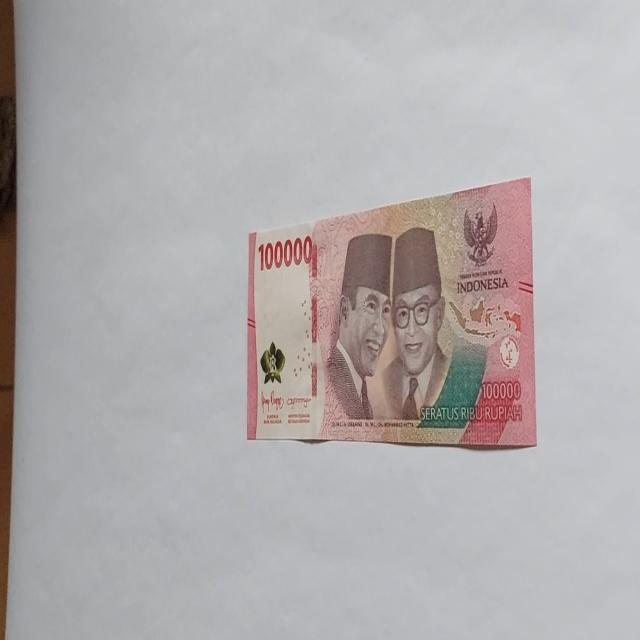seratus ribu rupiah: (246, 175, 536, 450)
